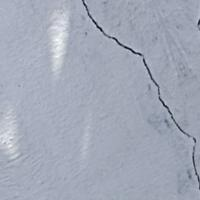crack: (71, 0, 199, 196)
